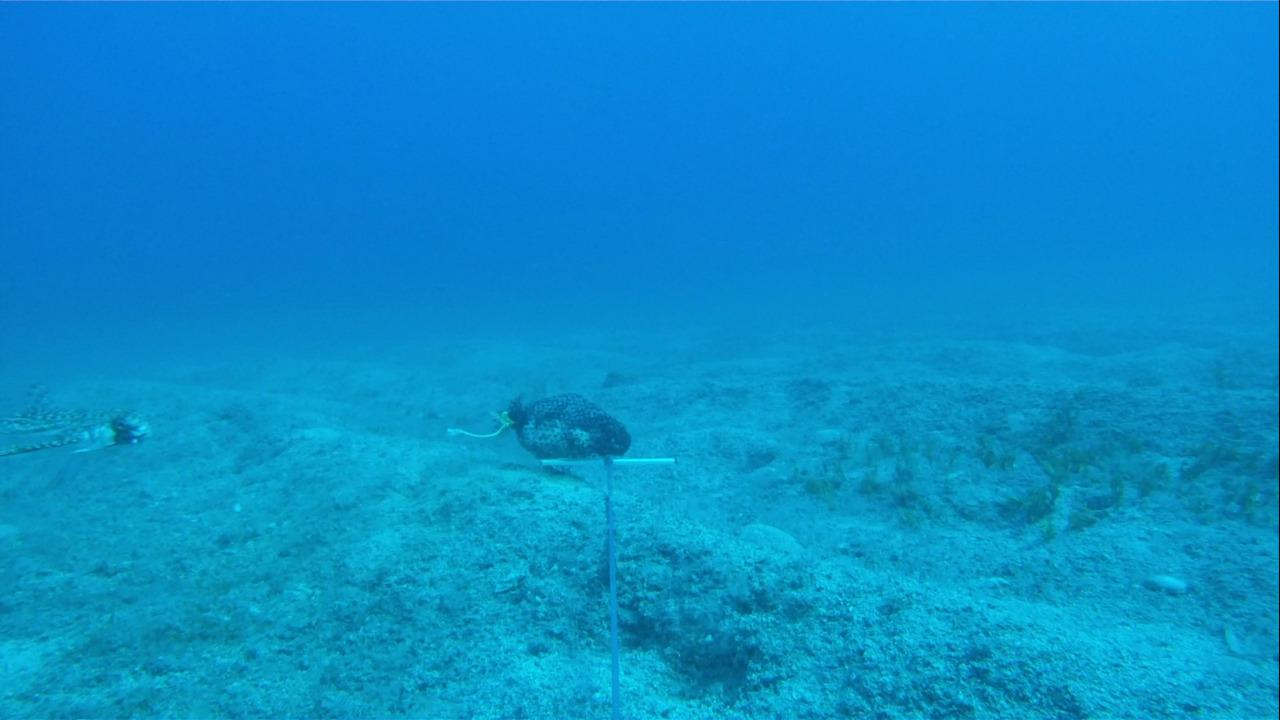dactylopterus: (3, 379, 154, 471)
